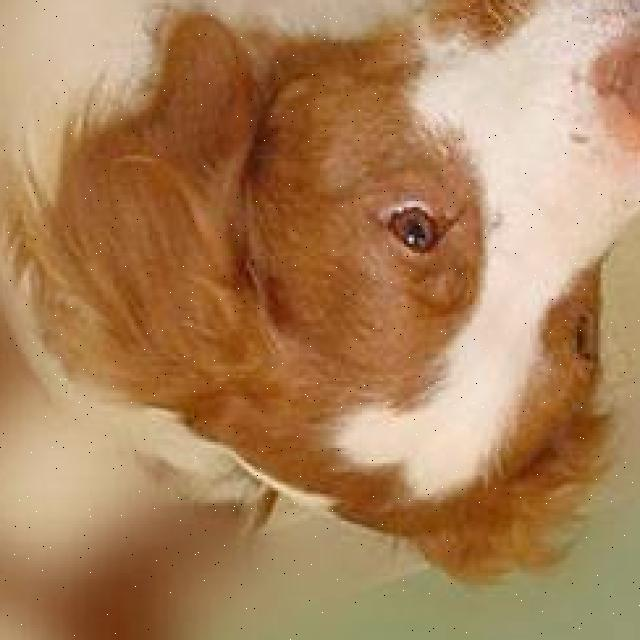Dog: (10, 0, 639, 601)
